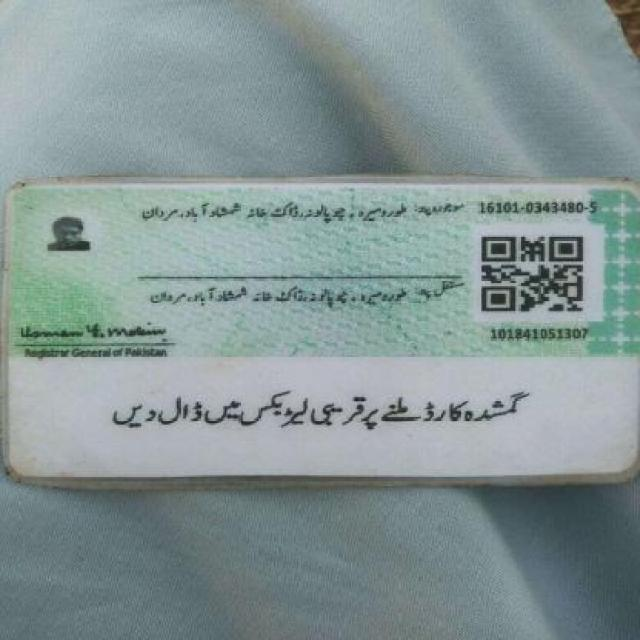Back: (3, 177, 632, 489)
